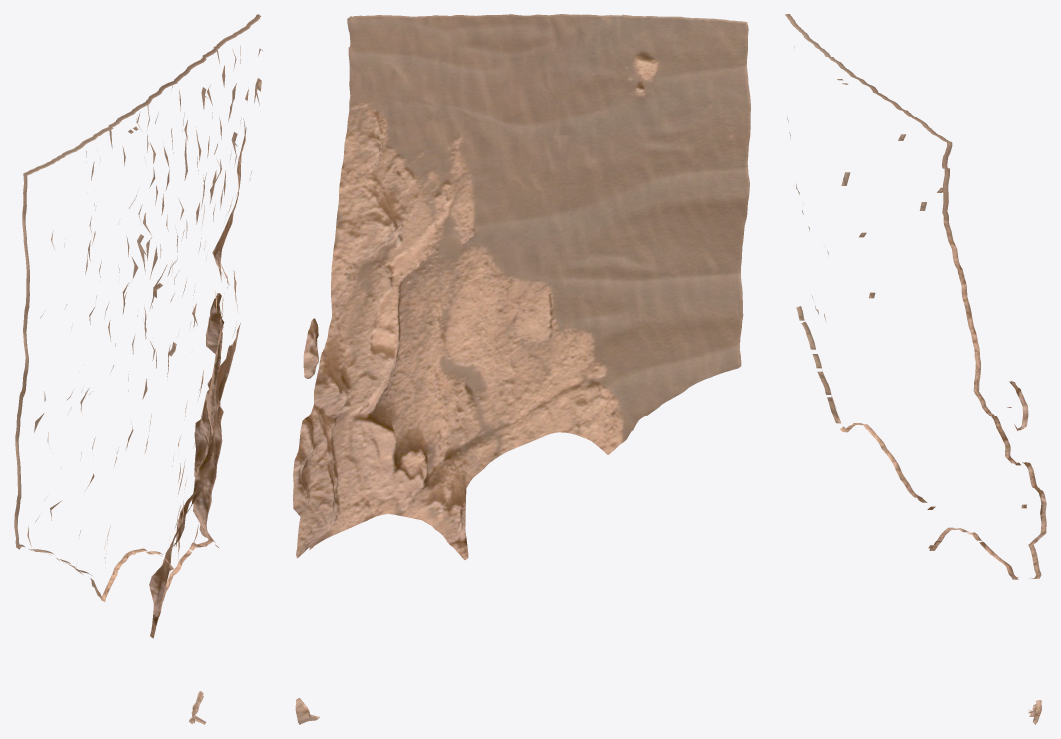
3 renders of one model, left to right at view 1: azimuth 30°, elevation 25°; view 2: azimuth 150°, elevation 25°; view 3: azimuth 270°, elevation 25°, orthographic. The views are drawn at different scales.
Size of the model in its own units: 0.5678 by 1.2 by 0.499.
Materials: 1 (1 with a texture image).
